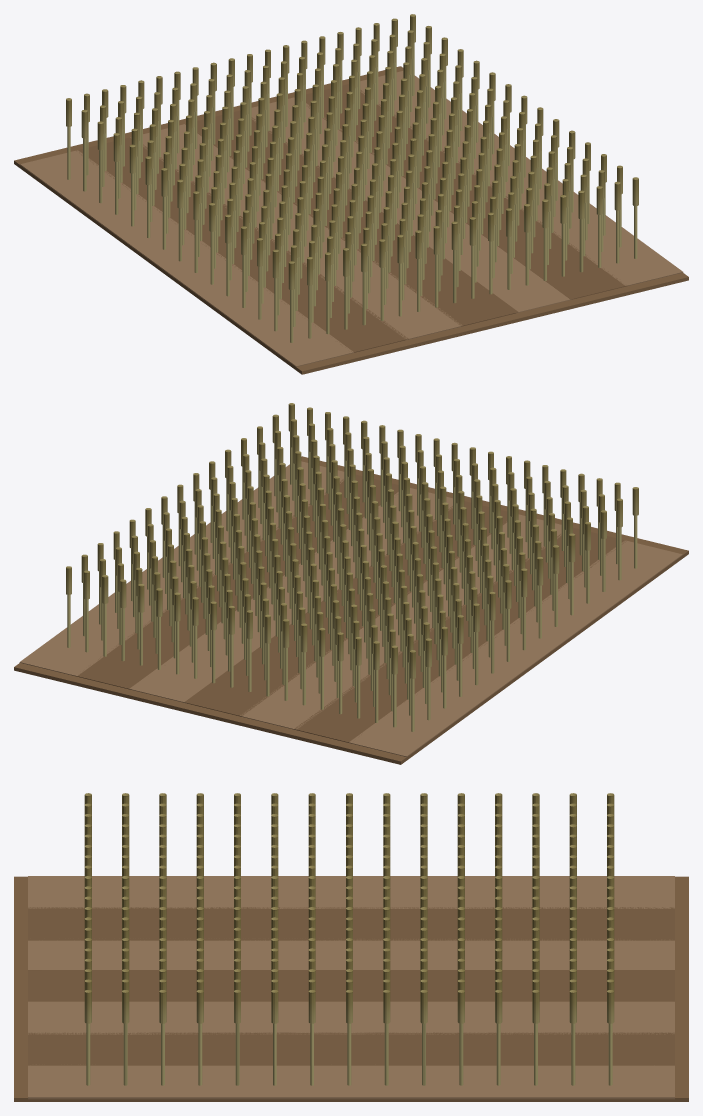
File: CUPIC_FARM.gltf
3 views of the same model, one above another, from view 1: azimuth 30°, elevation 25°; view 2: azimuth 150°, elevation 25°; view 3: azimuth 270°, elevation 25° (orthographic). The views are drawn at different scales.
Parts seen in each view (by area): view 1: node-0; view 2: node-0; view 3: node-0.
Part boxes in pixels (x1,y1,x2,y2): node-0: (14,14,688,374); node-0: (14,403,688,764); node-0: (14,793,688,1101).
Bounding box in the file's own units: 654 × 135 × 843.
Materials: 1 (1 with a texture image).
